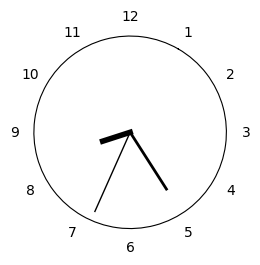12: (122, 9, 140, 22)
circle: (34, 36, 227, 229)
hours: (100, 130, 132, 143)
minutes: (130, 136, 167, 191)
seconds: (95, 136, 128, 211)
